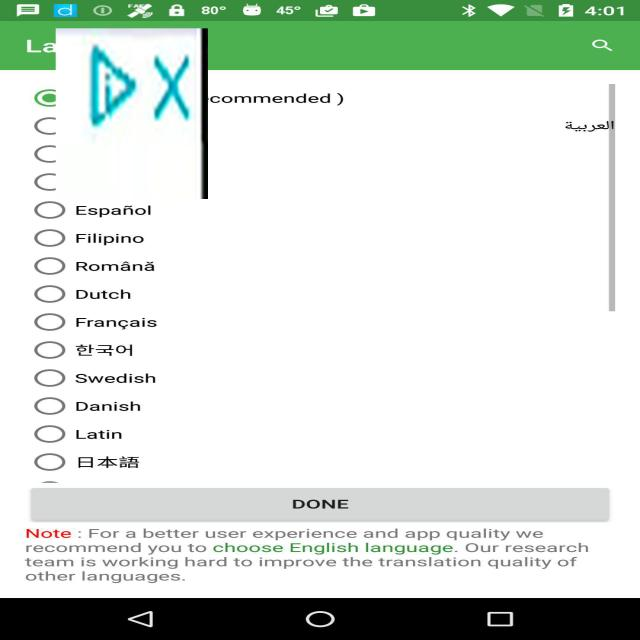sneaking: (56, 28, 208, 199)
